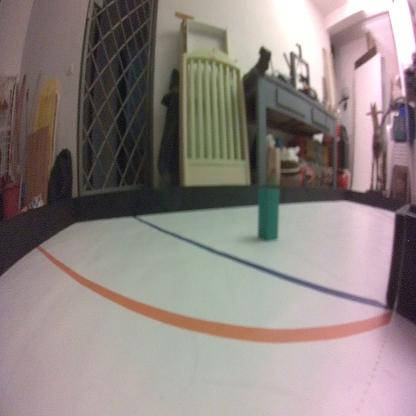green: (258, 185, 279, 243)
